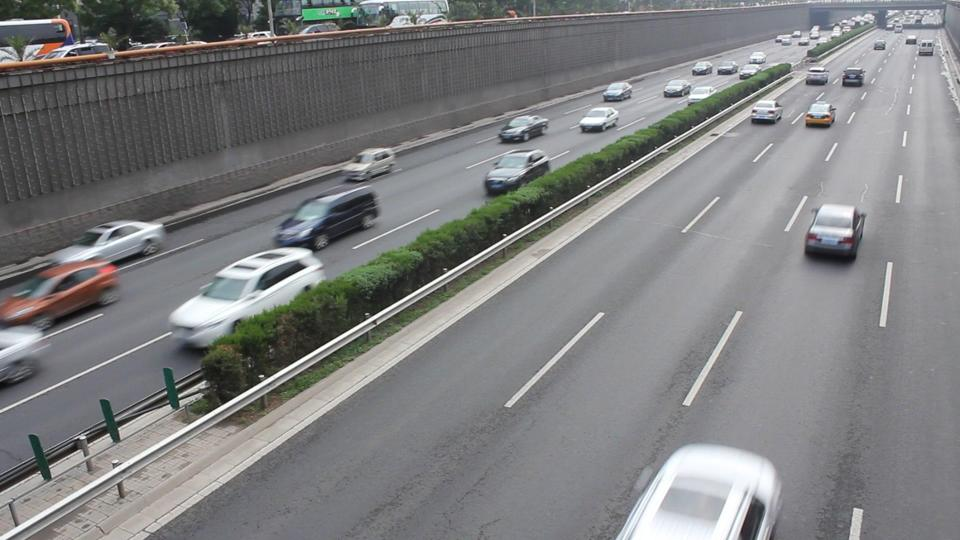Car: (166, 245, 327, 350), (15, 259, 117, 327), (47, 218, 164, 268), (802, 203, 863, 264), (481, 148, 550, 194), (342, 144, 393, 180), (496, 112, 548, 141)
Minivan: (272, 183, 376, 250)
